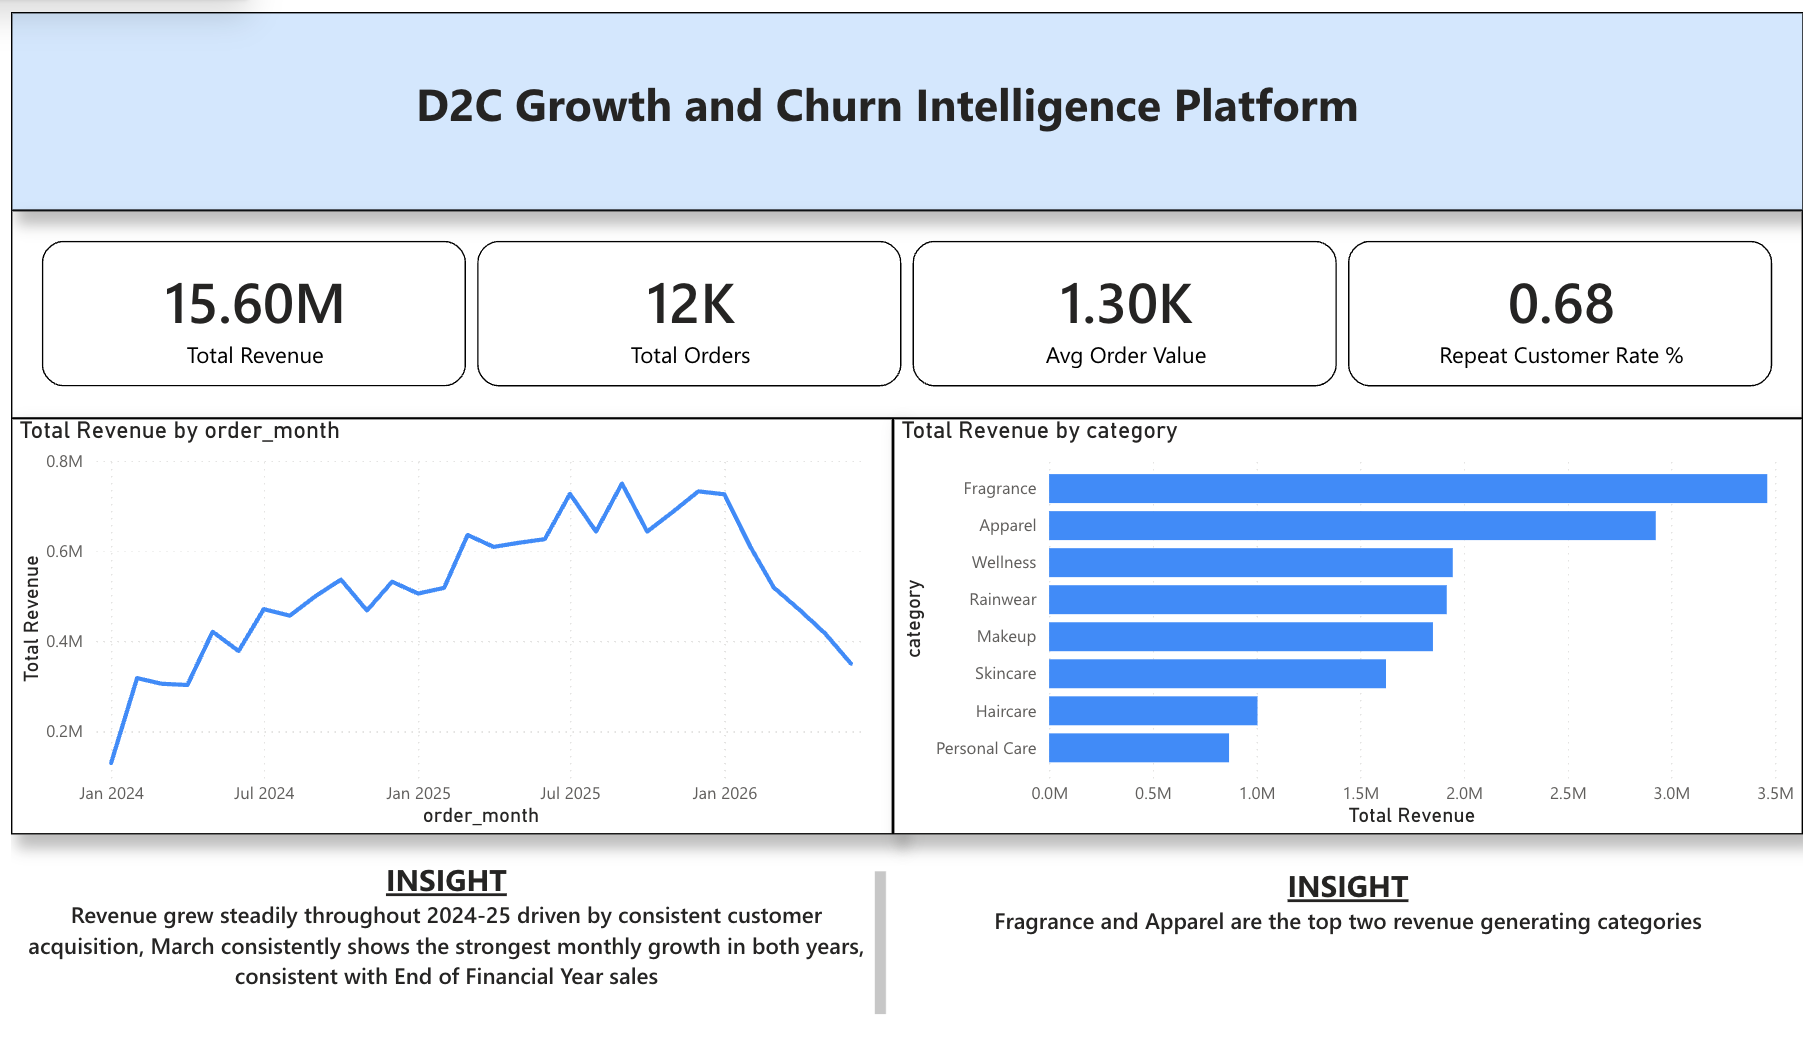

Layout of this report page (visuals, bound fields, positions):
{"tool":"powerbi","page":{"name":"Executive Summary","canvas":[1280,720],"ordinal":0},"visuals":[{"type":"cardVisual","fields":{"Data":["orders_clean.Total Revenue","orders_clean.Total Orders","orders_clean.Avg Order Value","rfm_output.Repeat Customer Rate %"]},"box":[0,141.2,1280,148.8],"z":0},{"type":"lineChart","fields":{"Y":["orders_clean.Total Revenue"],"Category":["orders_clean.order_month"]},"box":[0,290,630,297.5],"z":1000},{"type":"clusteredBarChart","fields":{"Category":["orders_clean.category"],"Y":["orders_clean.Total Revenue"]},"box":[630,290,650,297.5],"z":2000},{"type":"shape","box":[0,0,1280.3,141.8],"z":3000},{"type":"textbox","box":[284.9,37.9,709.2,66],"z":4000},{"type":"textbox","box":[0,603.8,630,116.2],"z":4002},{"type":"textbox","box":[630,603.8,650,116.2],"z":4003}]}

Visuals, with their boxes in screenshot pixels (x1, y1, x2, y2):
cardVisual - orders_clean.Total Revenue x orders_clean.Total Orders: [left=5, top=203, right=1798, bottom=411]
lineChart - orders_clean.Total Revenue x orders_clean.order_month: [left=5, top=411, right=887, bottom=828]
clusteredBarChart - orders_clean.category x orders_clean.Total Revenue: [left=887, top=411, right=1798, bottom=828]
shape: [left=5, top=5, right=1798, bottom=203]
textbox: [left=404, top=58, right=1397, bottom=150]
textbox: [left=5, top=850, right=887, bottom=1013]
textbox: [left=887, top=850, right=1798, bottom=1013]
